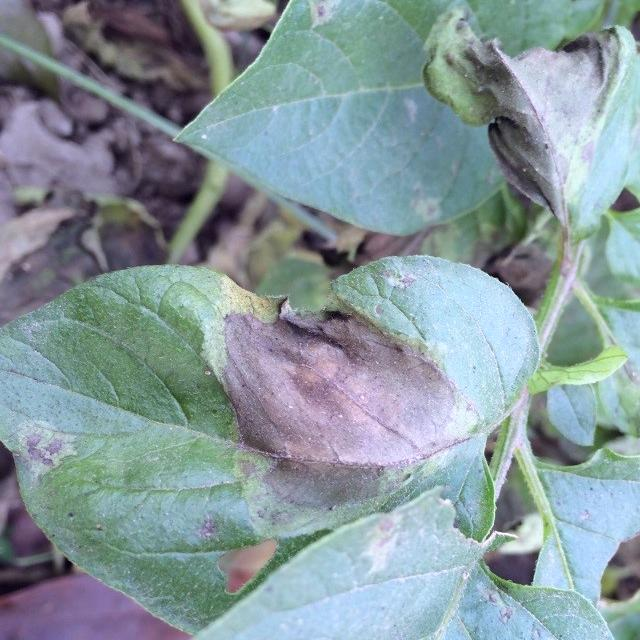Tomato leaf late blight: (182, 240, 563, 481), (431, 14, 640, 247)
